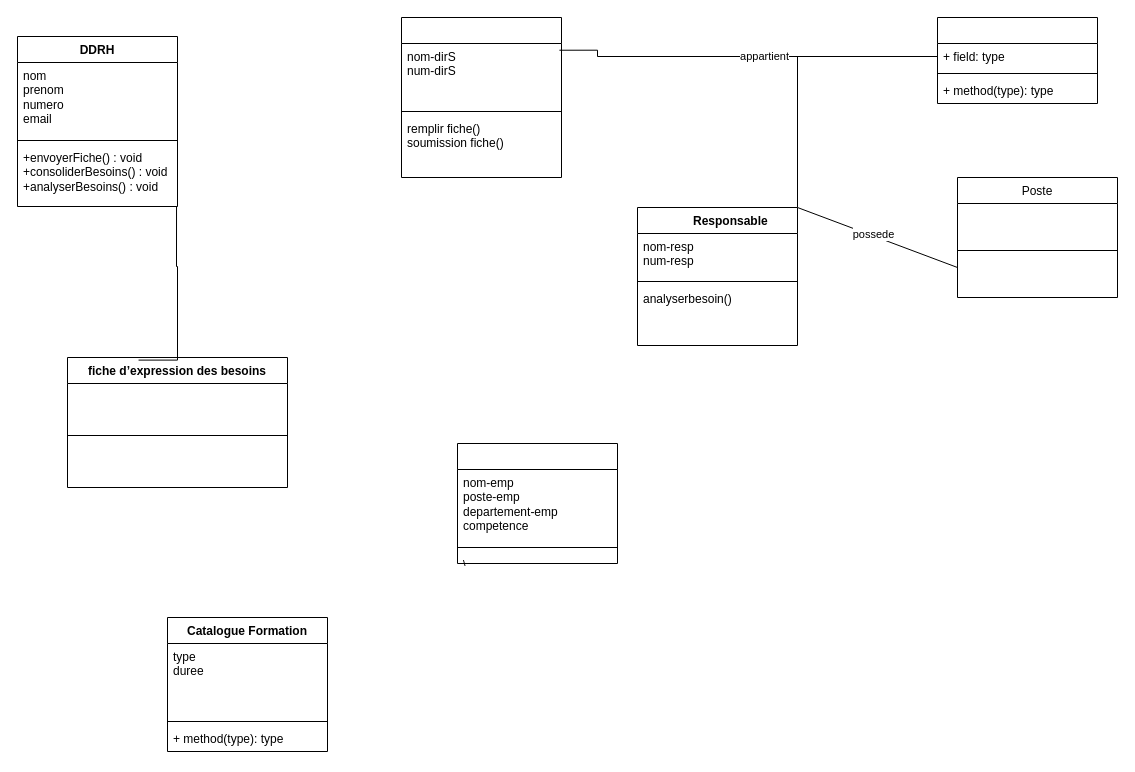
Image size: 1135x772. Some labels were removed from this diagram. The shapes that lost their labels are listed below. From the top down, each one's box as (x1, y1, x2, y2) in pixels, then its label:
(936, 16, 1098, 104): Departement
(400, 16, 562, 178): Directeur structure
(456, 442, 618, 564): Requête RH
